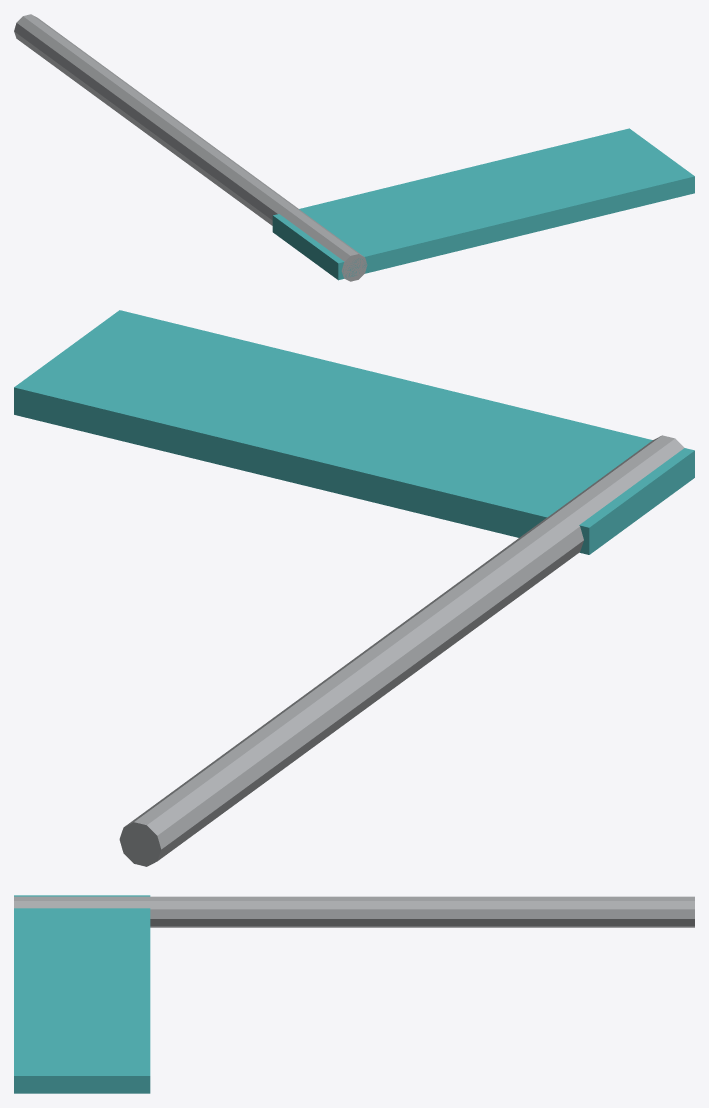
3 renders of one model, top to bottom at view 1: azimuth 30°, elevation 25°; view 2: azimuth 150°, elevation 25°; view 3: azimuth 270°, elevation 25°, orthographic. The views are drawn at different scales.
Visible parts, largest first — view 1: geometry_0; view 2: geometry_0; view 3: geometry_0.
Part boxes in pixels (x1,y1,x2,y2): geometry_0: (14, 14, 694, 281); geometry_0: (14, 310, 694, 866); geometry_0: (14, 895, 694, 1093).
Size of the model in its own units: 0.22 by 0.0152 by 0.35.
